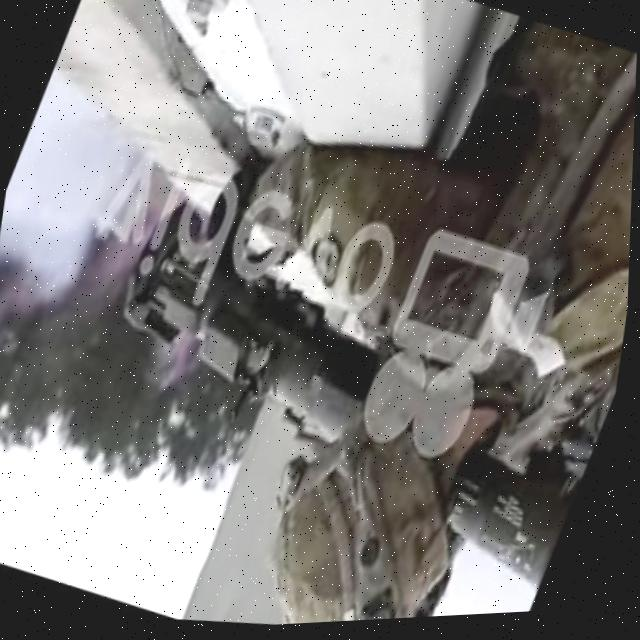rocket: (57, 166, 634, 607)
